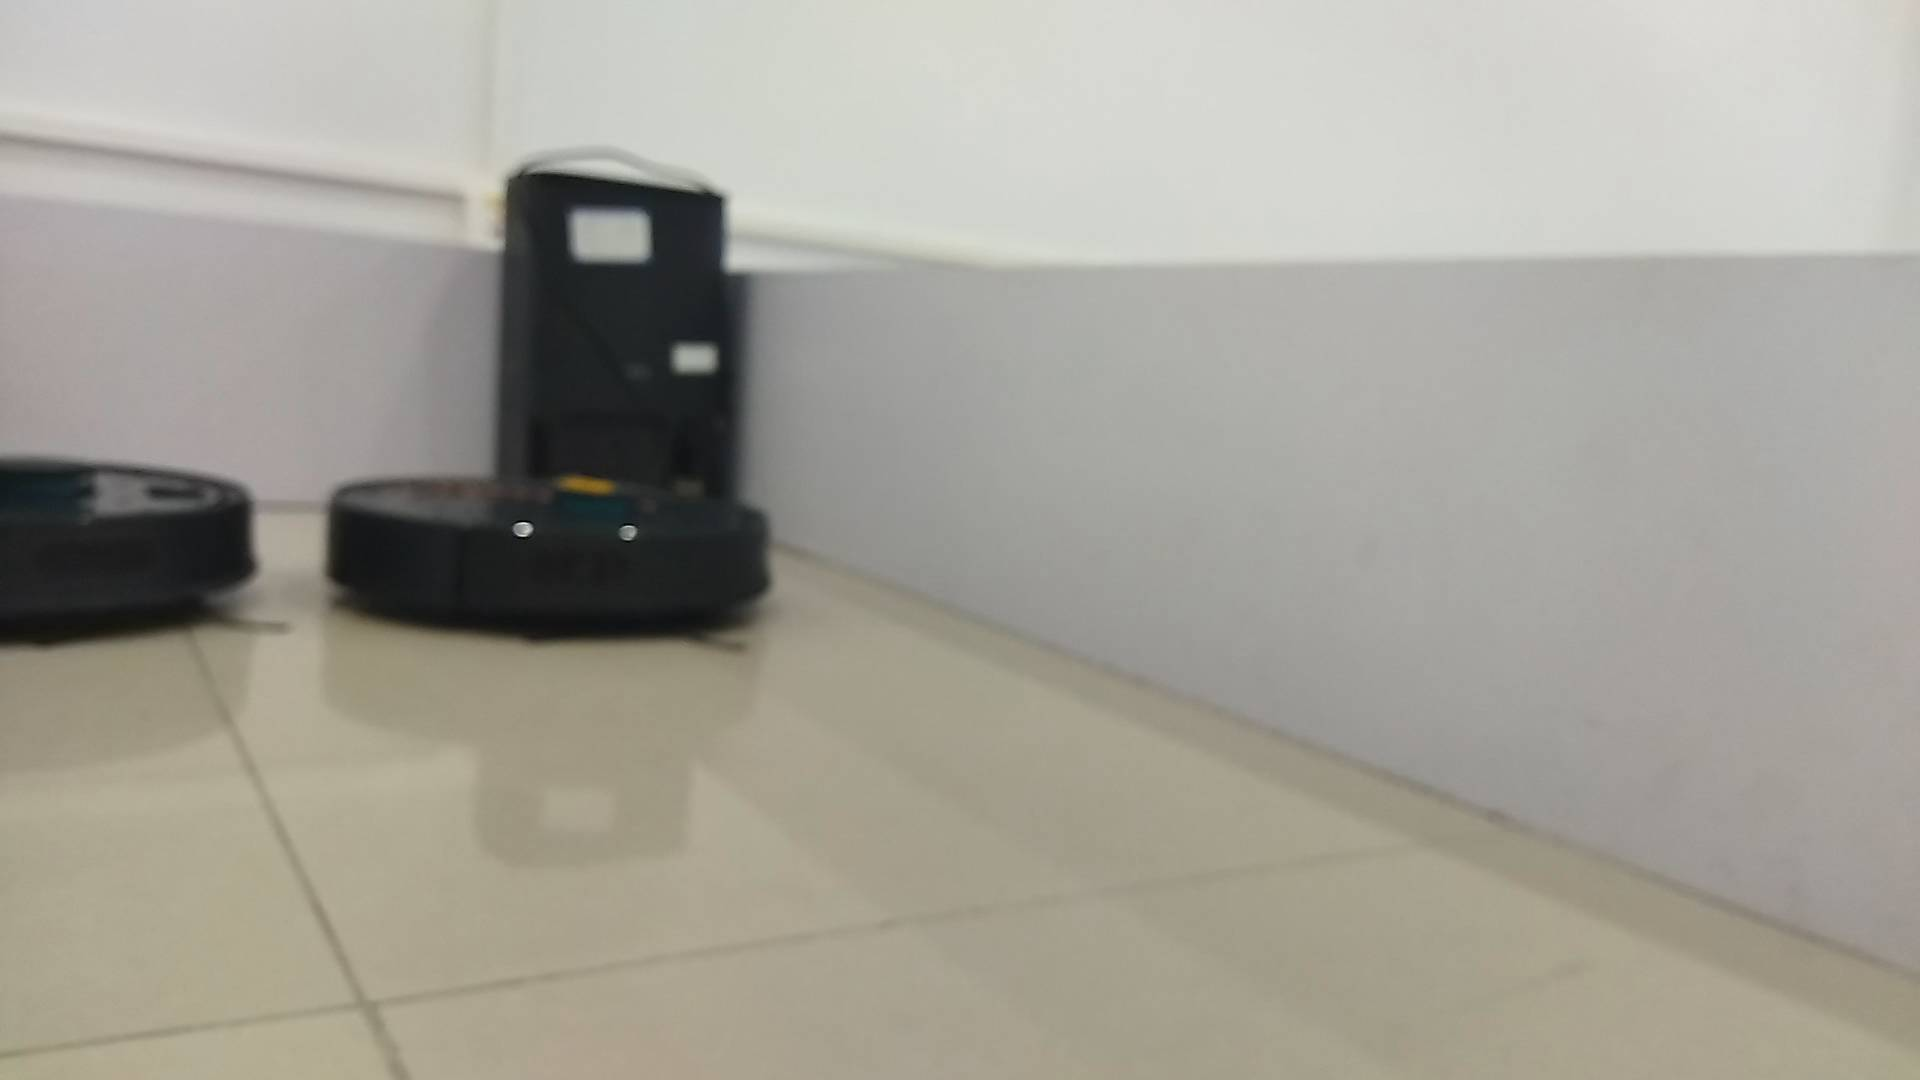dust collecting barrel: (498, 171, 738, 484)
